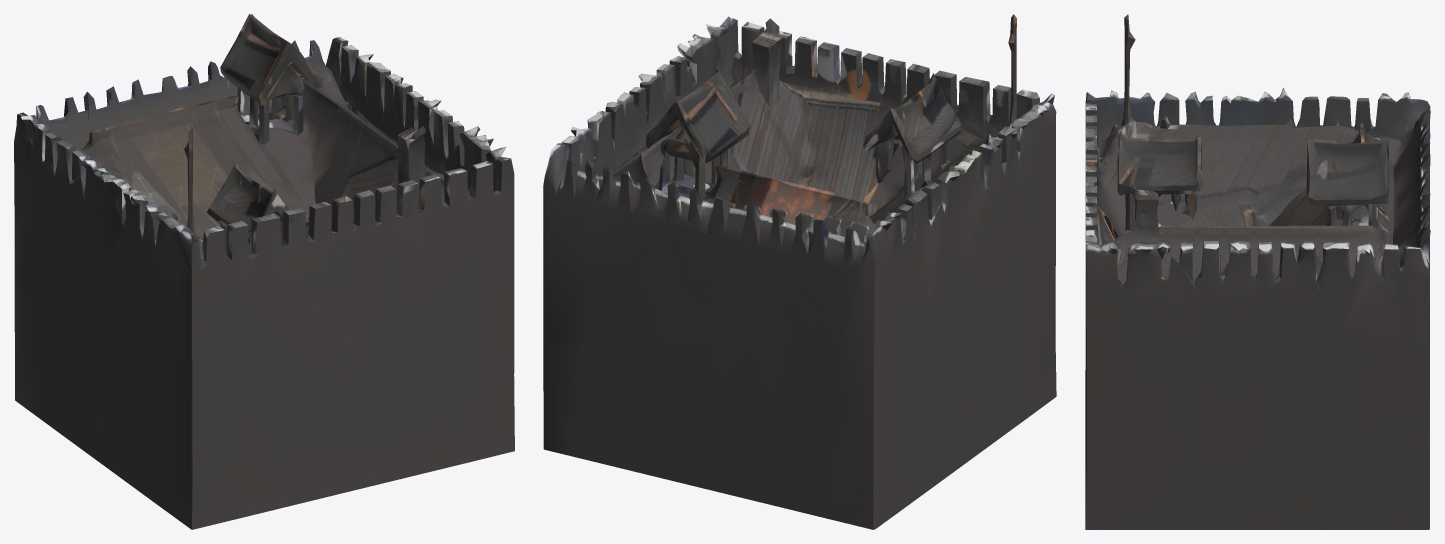
The model's file is ayutthaya_torre_65b.glb.
The picture shows the model from 3 angles, left to right: view 1: azimuth 30°, elevation 25°; view 2: azimuth 150°, elevation 25°; view 3: azimuth 270°, elevation 25°; orthographic projection. The views are drawn at different scales.
Visible parts, largest first — view 1: geometry_0; view 2: geometry_0; view 3: geometry_0.
Part boxes in pixels (box(x1,y1,x2,y2)): geometry_0: box(14, 14, 514, 529); geometry_0: box(543, 14, 1056, 529); geometry_0: box(1085, 14, 1430, 529).
Bounding box in the file's own units: 1.4 × 1.53 × 1.28.
Materials: 1 (1 with a texture image).
